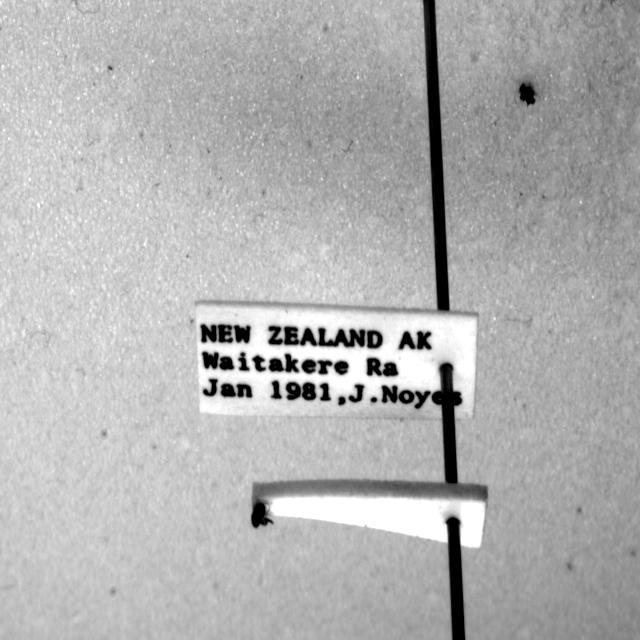typed_label: (195, 302, 478, 420)
